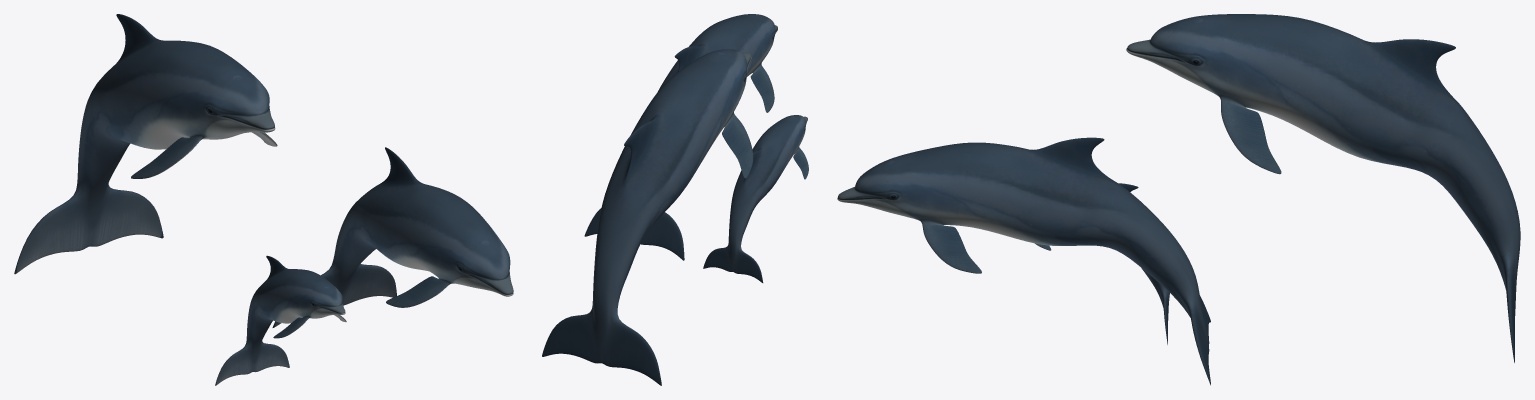
The model's file is dolphin.glb.
3 renders of one model, left to right at view 1: azimuth 30°, elevation 25°; view 2: azimuth 150°, elevation 25°; view 3: azimuth 270°, elevation 25°, orthographic. The views are drawn at different scales.
Parts seen in each view (by area): view 1: 10014_dolphin_v2_max2011_it2.001_01___Default.001_0.001, 10014_dolphin_v2_max2011_it2.001_01___Default.001_0.002, 10014_dolphin_v2_max2011_it2.001_01___Default.001_0; view 2: 10014_dolphin_v2_max2011_it2.001_01___Default.001_0.001, 10014_dolphin_v2_max2011_it2.001_01___Default.001_0, 10014_dolphin_v2_max2011_it2.001_01___Default.001_0.002; view 3: 10014_dolphin_v2_max2011_it2.001_01___Default.001_0.001, 10014_dolphin_v2_max2011_it2.001_01___Default.001_0.002, 10014_dolphin_v2_max2011_it2.001_01___Default.001_0.
Boxes of the visible parts, x1,y1,x2,y2 form: 10014_dolphin_v2_max2011_it2.001_01___Default.001_0.001: (14,14,277,274); 10014_dolphin_v2_max2011_it2.001_01___Default.001_0.002: (272,147,513,327); 10014_dolphin_v2_max2011_it2.001_01___Default.001_0: (215,255,346,385); 10014_dolphin_v2_max2011_it2.001_01___Default.001_0.001: (542,49,753,385); 10014_dolphin_v2_max2011_it2.001_01___Default.001_0: (703,115,808,282); 10014_dolphin_v2_max2011_it2.001_01___Default.001_0.002: (584,14,777,260); 10014_dolphin_v2_max2011_it2.001_01___Default.001_0.001: (1126,14,1520,362); 10014_dolphin_v2_max2011_it2.001_01___Default.001_0.002: (837,137,1210,385); 10014_dolphin_v2_max2011_it2.001_01___Default.001_0: (1035,183,1169,344).
Bounding box in the file's own units: 1.17 × 1.35 × 2.72.
Materials: 3 (3 with a texture image).
